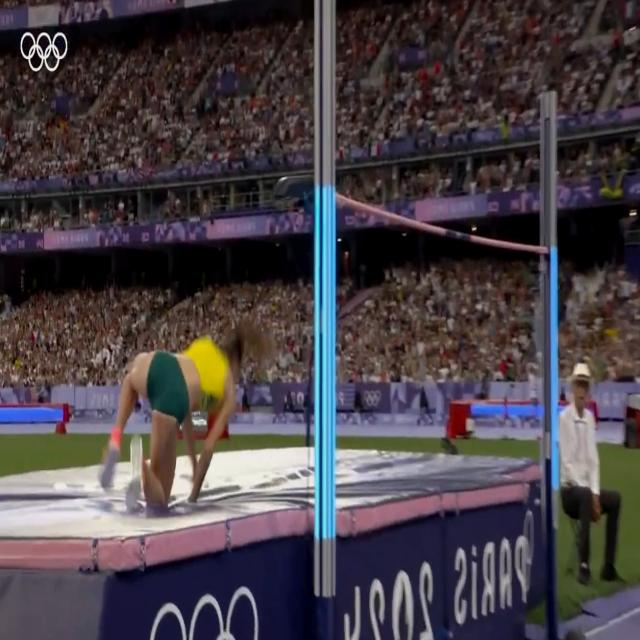land: (100, 332, 244, 504)
